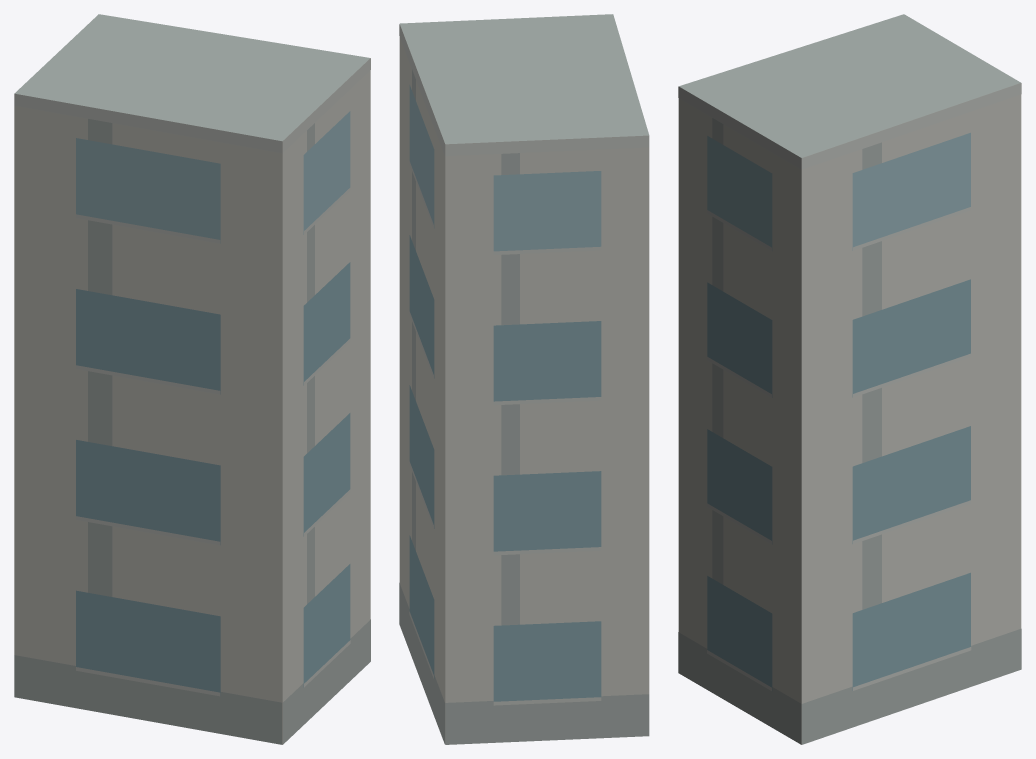
File: survey-upis-32697280.glb
3 renders of one model, left to right at view 1: azimuth 30°, elevation 25°; view 2: azimuth 150°, elevation 25°; view 3: azimuth 270°, elevation 25°, orthographic. The views are drawn at different scales.
Parts seen in each view (by area): view 1: survey-upis-32697280.tmp; view 2: survey-upis-32697280.tmp; view 3: survey-upis-32697280.tmp.
Part boxes in pixels (<box>): survey-upis-32697280.tmp: <box>14,14,370,744</box>; survey-upis-32697280.tmp: <box>399,14,649,744</box>; survey-upis-32697280.tmp: <box>678,14,1021,744</box>.
Size of the model in its own units: 6.43 by 12.2 by 6.47.
